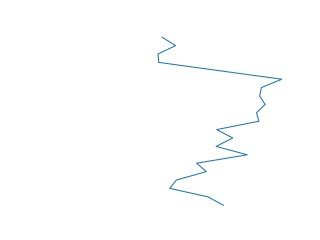floodPlain: (157, 34, 283, 209)
